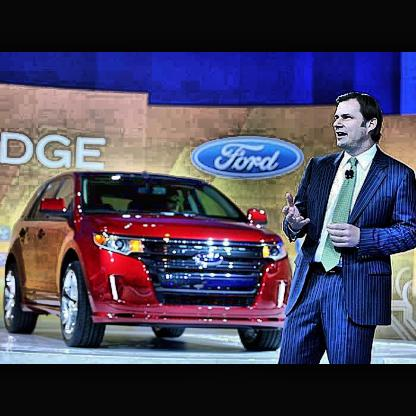Ford Edge SUV 2012: (7, 172, 293, 353)
